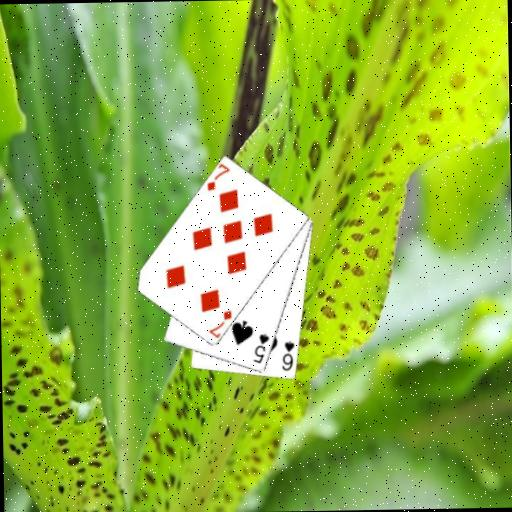5S: (250, 332, 271, 366)
6S: (278, 338, 297, 372)
7D: (206, 308, 234, 340), (203, 161, 231, 193)
